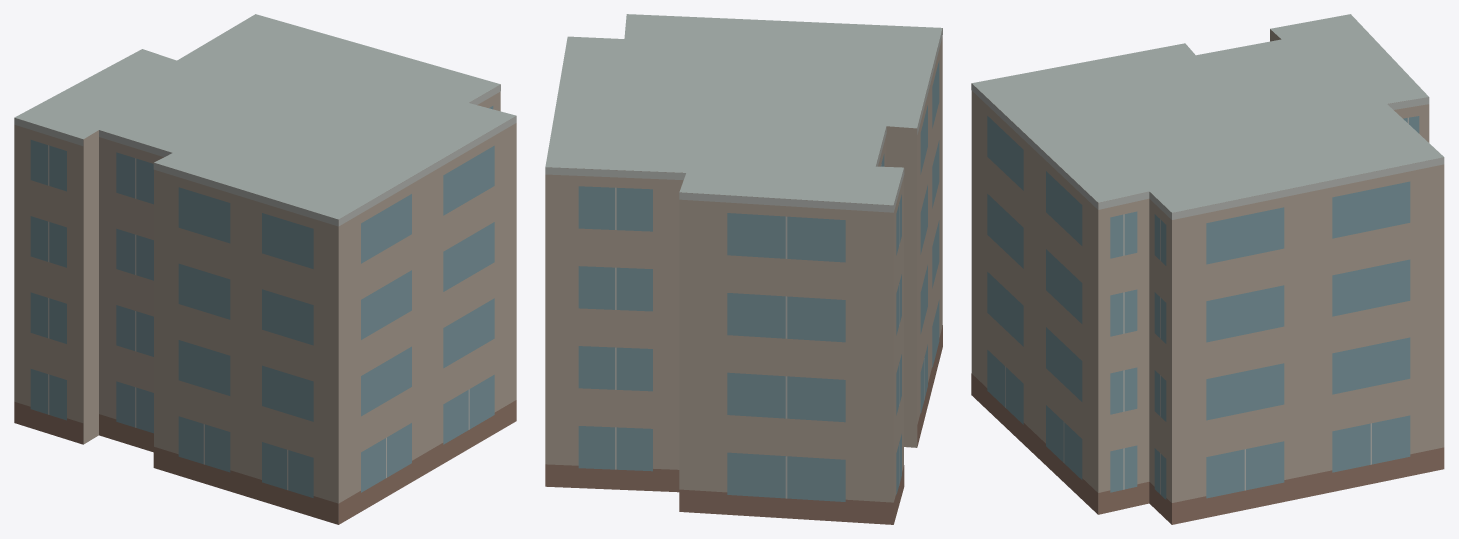
The model's file is survey-upis-32818446.glb.
The picture shows the model from 3 angles, left to right: view 1: azimuth 30°, elevation 25°; view 2: azimuth 150°, elevation 25°; view 3: azimuth 270°, elevation 25°; orthographic projection. The views are drawn at different scales.
Visible parts, largest first — view 1: survey-upis-32818446.tmp; view 2: survey-upis-32818446.tmp; view 3: survey-upis-32818446.tmp.
Boxes of the visible parts, x1,y1,x2,y2 form: survey-upis-32818446.tmp: (14,14,516,524); survey-upis-32818446.tmp: (545,14,942,524); survey-upis-32818446.tmp: (971,14,1444,524).
Size of the model in its own units: 14.51 by 10.6 by 14.57.
